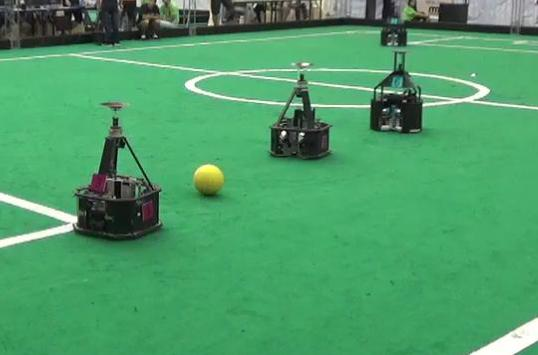robot: (72, 96, 163, 241), (269, 60, 333, 161), (367, 46, 428, 135)
